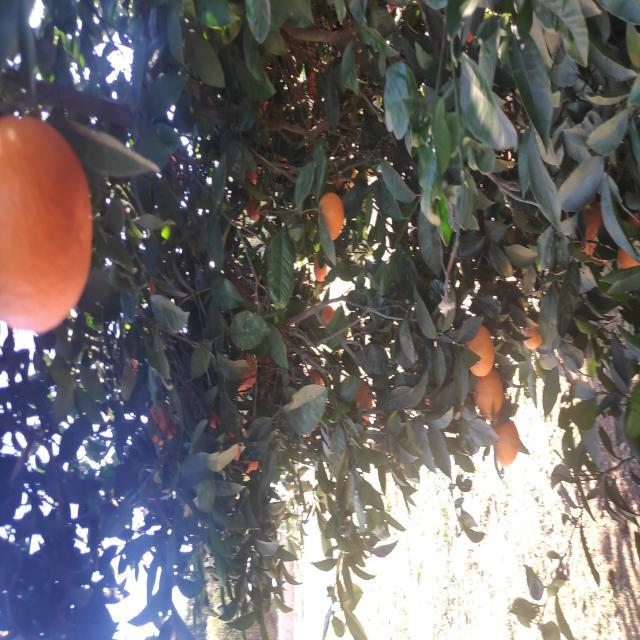Jeruk Sudah Matang: (307, 0, 527, 93), (367, 615, 432, 640), (398, 318, 450, 346), (264, 466, 316, 494), (383, 578, 441, 602), (224, 473, 270, 502), (177, 492, 220, 518), (217, 354, 262, 372), (245, 237, 282, 257), (292, 523, 318, 540), (360, 314, 390, 326), (422, 246, 438, 262), (314, 323, 336, 334), (318, 323, 335, 335)
